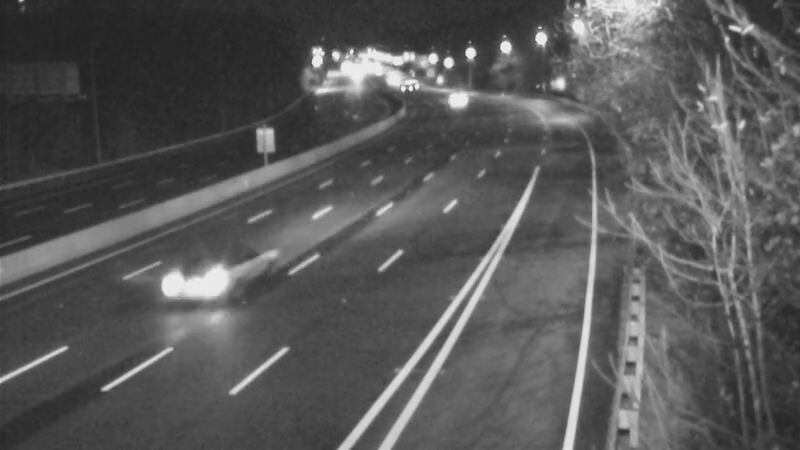vehicle: (161, 236, 241, 316), (382, 59, 432, 109), (431, 77, 481, 127)
